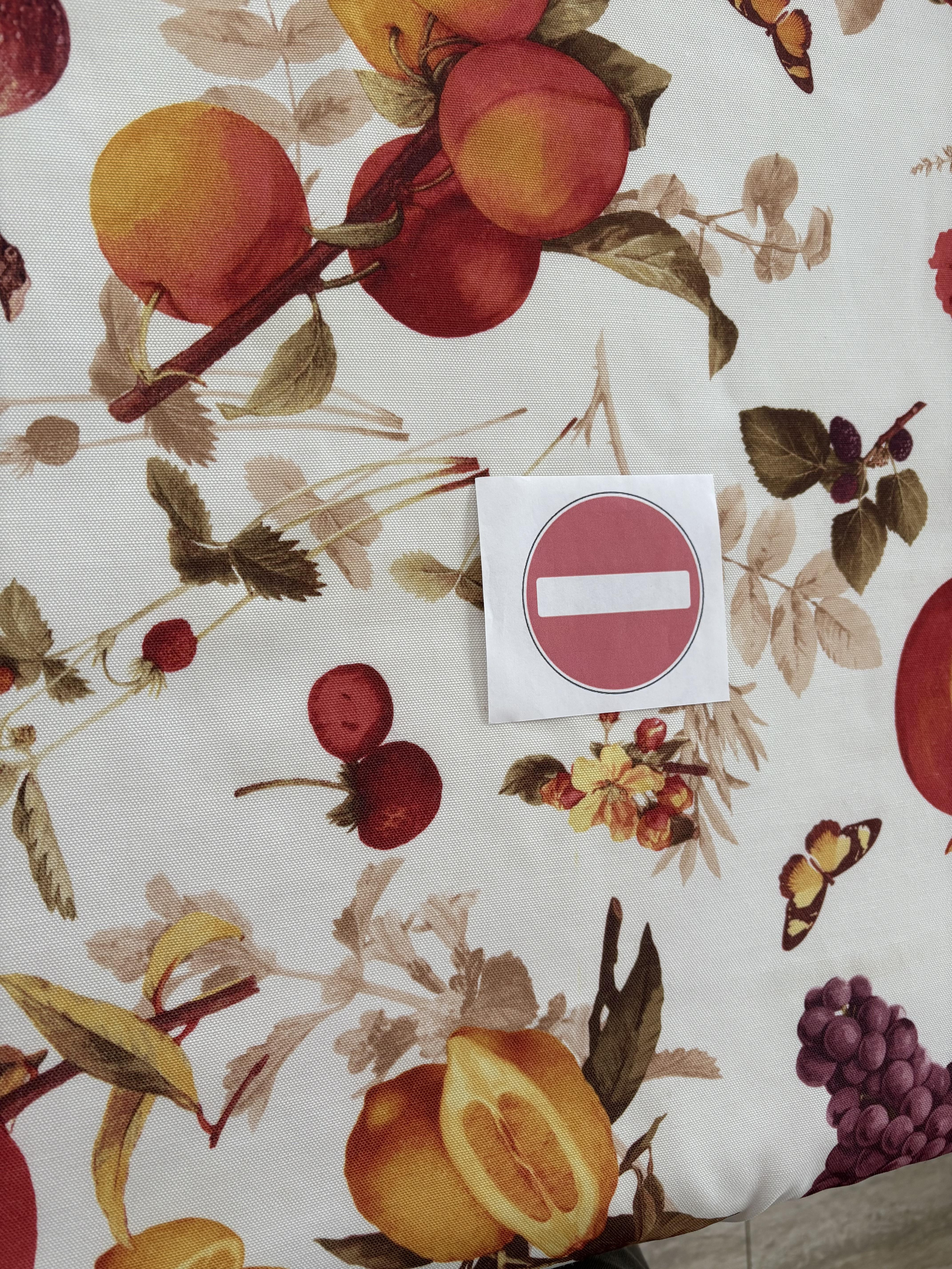No Entry: (487, 484, 720, 709)
